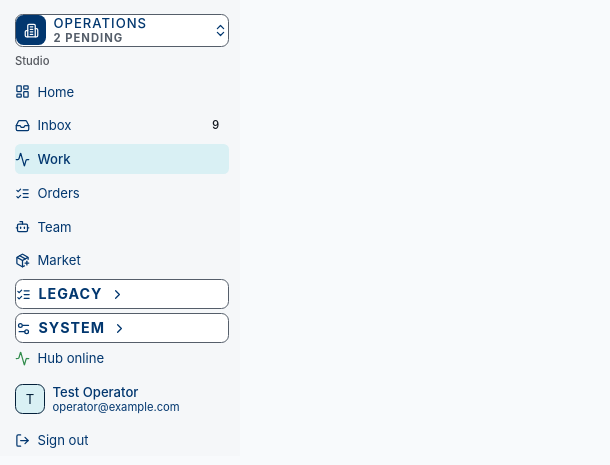
Test: renders the producer Space switcher in the actual sidebar shell
Click the button "Operations 2 pending".
click(122, 30)  # box [15, 14, 229, 47]
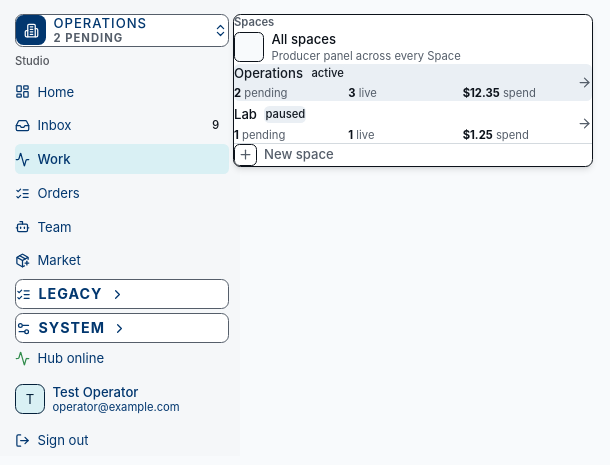
Check: the menu item "All spaces Producer panel across every Space" is shown, box [234, 31, 461, 63]
Check: the menu item "Operations active 2 pending 3 live $12.35 spend" is shown, box [234, 64, 592, 101]
Check: the menu item "Lab paused 1 pending 1 live $1.25 spend" is shown
Click the menu item "Lab paused 1 pending 1 live $1.25 spend".
click(285, 114)  # box [234, 105, 592, 142]
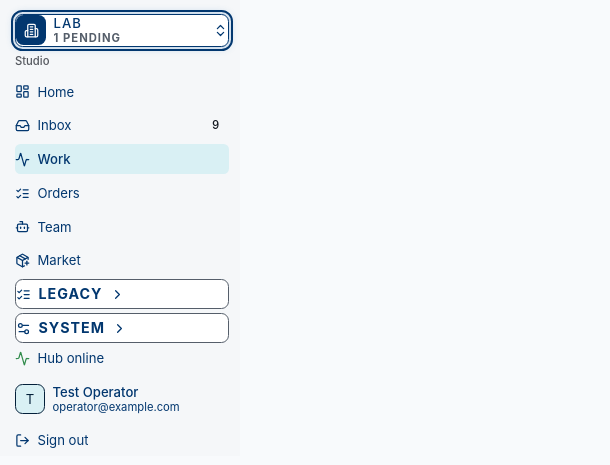
Check: the button "Lab 1 pending" is shown, box [15, 14, 229, 47]
